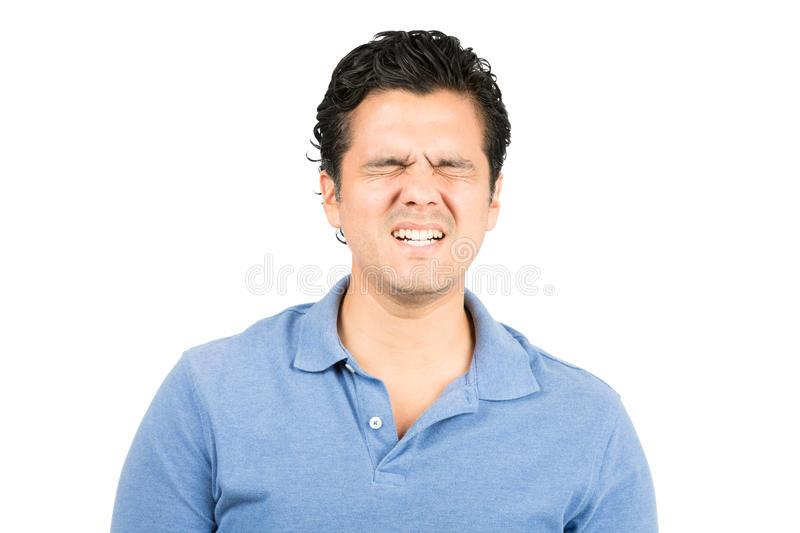pain: (346, 135, 487, 200)
